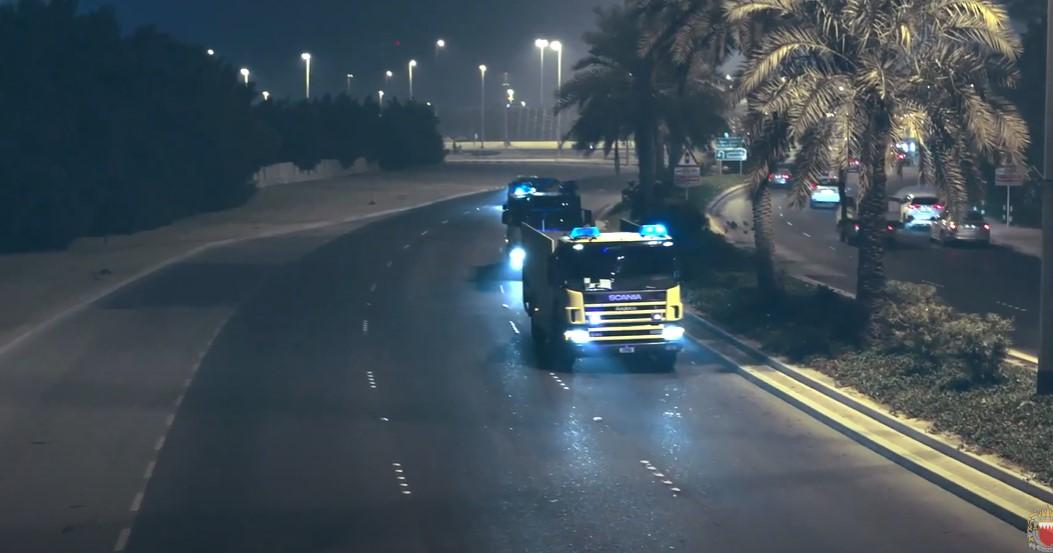firetruck_on: (520, 211, 685, 376)
